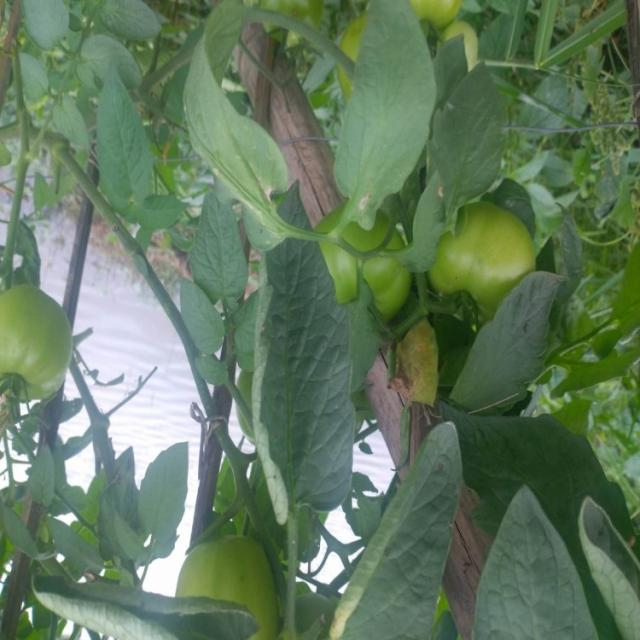tomato: (429, 203, 560, 317), (172, 529, 277, 640), (1, 261, 78, 405), (363, 241, 410, 329), (405, 1, 471, 33)
